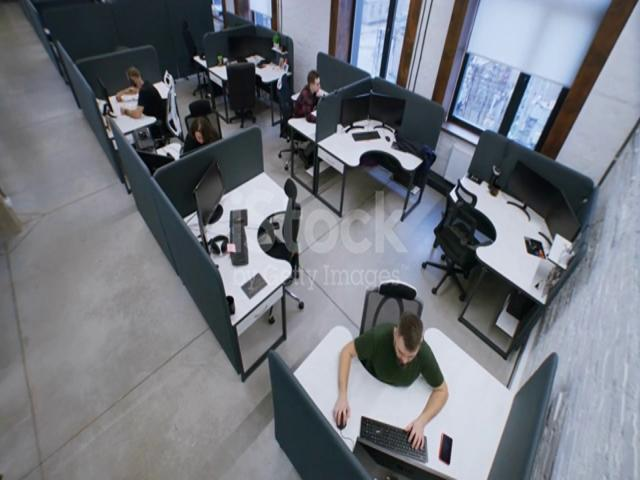empty chair: (425, 175, 492, 309), (262, 163, 308, 317), (218, 48, 262, 126), (180, 16, 209, 86)
occupiedchair: (356, 274, 438, 390), (106, 47, 182, 142), (266, 57, 331, 163), (172, 77, 242, 169)
